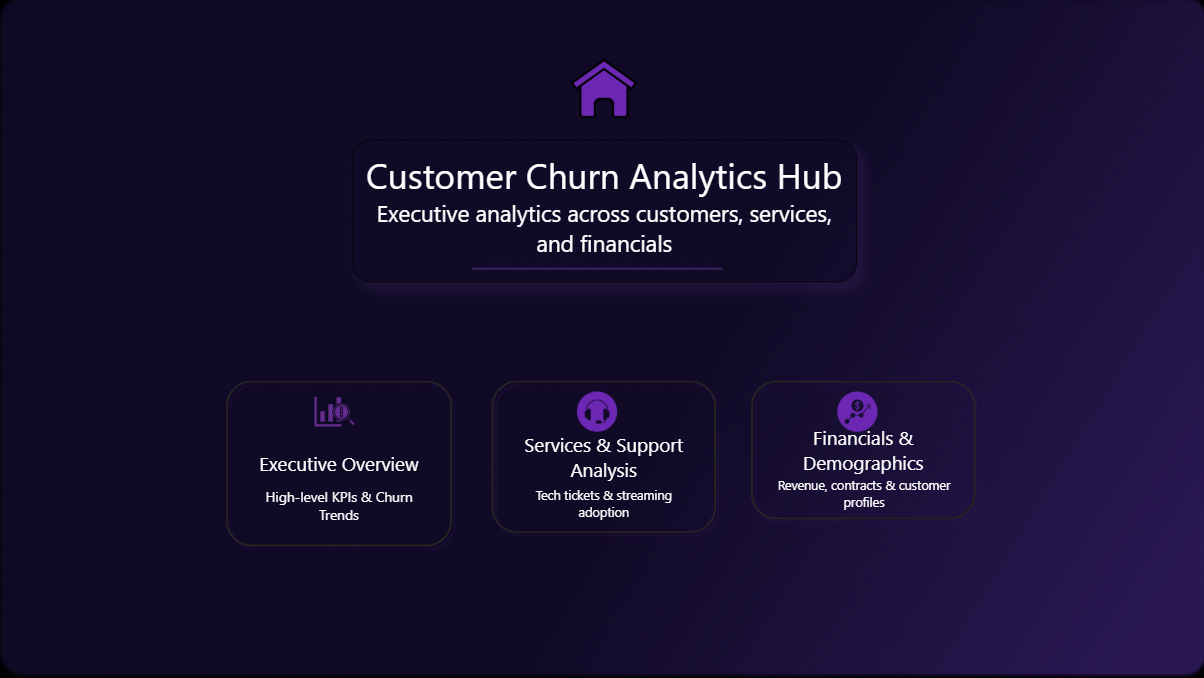

The page's visual inventory and layout, read from the dashboard file:
{"tool":"powerbi","page":{"name":"Home","canvas":[1280,720],"ordinal":0},"visuals":[{"type":"textbox","box":[373.8,147.9,534.4,151.1],"z":0},{"type":"actionButton","box":[230.6,394.5,257.7,194.1],"z":1000},{"type":"actionButton","box":[512.2,394.5,256.1,179.7],"z":2000},{"type":"actionButton","box":[787.4,394.5,256.1,165.4],"z":3000},{"type":"textbox","box":[254.5,510.6,210,63.6],"z":4000},{"type":"textbox","box":[536,510.6,208.4,49.3],"z":5000},{"type":"textbox","box":[806.4,499.5,219.5,60.4],"z":6000},{"type":"image","box":[590.1,58.9,100.2,70],"z":7000},{"type":"image","box":[310.2,415.1,89.1,42.9],"z":8000},{"type":"image","box":[575.8,415.1,114.5,42.9],"z":9000},{"type":"image","box":[839.8,415.1,138.4,42.9],"z":10000},{"type":"shape","box":[483.5,210,300,150],"z":11000}]}

Visuals, with their boxes in screenshot pixels (x1, y1, x2, y2), scaled from the page's 1280x720 canvas onto the 1204x678 screenshot:
textbox: x1=352, y1=139, x2=854, y2=282
actionButton: x1=217, y1=371, x2=459, y2=554
actionButton: x1=482, y1=371, x2=723, y2=541
actionButton: x1=741, y1=371, x2=982, y2=527
textbox: x1=239, y1=481, x2=437, y2=541
textbox: x1=504, y1=481, x2=700, y2=527
textbox: x1=759, y1=470, x2=965, y2=527
image: x1=555, y1=55, x2=649, y2=121
image: x1=292, y1=391, x2=376, y2=431
image: x1=542, y1=391, x2=649, y2=431
image: x1=790, y1=391, x2=920, y2=431
shape: x1=455, y1=198, x2=737, y2=339
